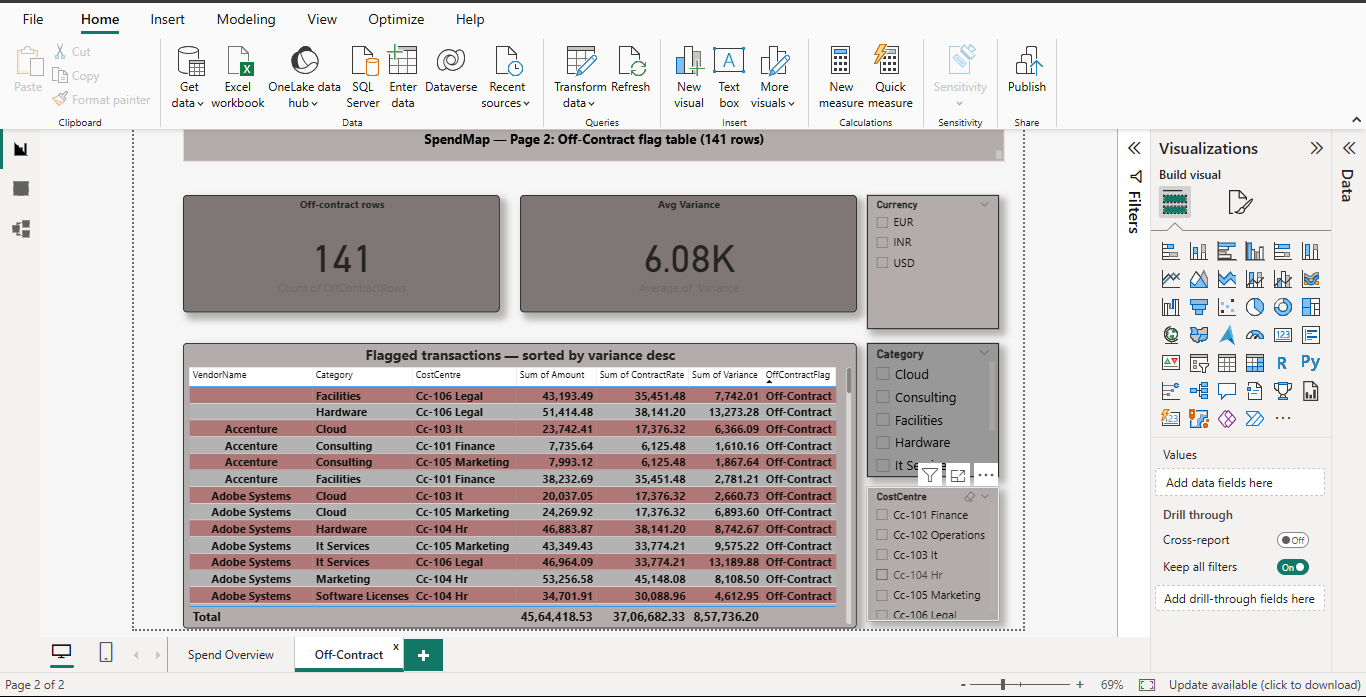

Layout of this report page (visuals, bound fields, positions):
{"tool":"powerbi","page":{"name":"Off-Contract","canvas":[1280,720],"ordinal":1},"visuals":[{"type":"tableEx","title":"Flagged transactions — sorted by variance desc","fields":{"Values":["ap_transactions.VendorName","ap_transactions.Category","ap_transactions.CostCentre","Sum(ap_transactions.Amount)","Sum(ap_transactions.ContractRate)","Sum(ap_transactions. Variance)","ap_transactions.OffContractFlag"]},"box":[70.5,308.7,969.6,411],"z":0},{"type":"card","title":"Off-contract rows","fields":{"Values":["CountNonNull(ap_transactions.OffContractRows)"]},"box":[70.5,95.6,456.3,169.4],"z":1000},{"type":"card","title":"Avg Variance","fields":{"Values":["Avg(ap_transactions. Variance)"]},"box":[555.3,95.6,484.8,169.4],"z":2000},{"type":"slicer","title":"Spend by category","fields":{"Values":["ap_transactions.Currency"]},"box":[1055.2,95.6,189.6,192.9],"z":3000},{"type":"slicer","title":"Spend by category","fields":{"Values":["ap_transactions.Category"]},"box":[1055.2,308.7,189.6,192.9],"z":4000},{"type":"slicer","title":"Spend by category","fields":{"Values":["ap_transactions.CostCentre"]},"box":[1055.5,515.5,190.1,193],"z":5000},{"type":"textbox","title":"SpendMap — Page 2: Off-Contract flag table (141 rows)","box":[70.5,0,1182.7,47],"z":6000}]}

Visuals, with their boxes on the page's 1280x720 design canvas (x1, y1, x2, y2). These are canvas units, not pixel positions in the 1366x697 screenshot, which may show the page scaled, cropped or inside an application window:
"Flagged transactions — sorted by variance desc" tableEx: box=[70, 309, 1040, 720]
"Off-contract rows" card: box=[70, 96, 527, 265]
"Avg Variance" card: box=[555, 96, 1040, 265]
"Spend by category" slicer: box=[1055, 96, 1245, 288]
"Spend by category" slicer: box=[1055, 309, 1245, 502]
"Spend by category" slicer: box=[1056, 516, 1246, 708]
"SpendMap — Page 2: Off-Contract flag table (141 rows)" textbox: box=[70, 0, 1253, 47]
